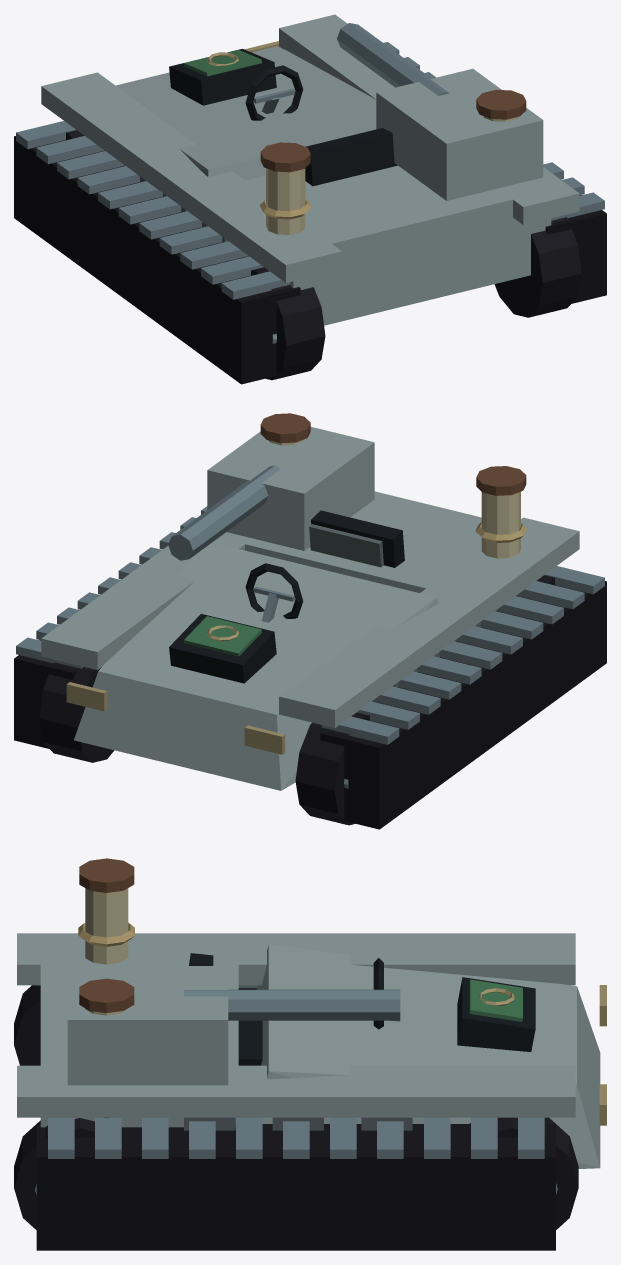
The model's file is kart.glb.
3 renders of one model, top to bottom at view 1: azimuth 30°, elevation 25°; view 2: azimuth 150°, elevation 25°; view 3: azimuth 270°, elevation 25°, orthographic. The views are drawn at different scales.
Visible parts, largest first — view 1: identity-tank-tank-armored-hull, identity-tank-tank-full-length-tracks, identity-tank-motif-scrolls, identity-tank-driver-cockpit, wheel-rear-right, identity-tank-motif-scanner, wheel-rear-left; view 2: identity-tank-tank-armored-hull, identity-tank-tank-full-length-tracks, identity-tank-driver-cockpit, identity-tank-motif-scrolls, identity-tank-motif-scanner, wheel-front-left, wheel-front-right; view 3: identity-tank-tank-armored-hull, identity-tank-tank-full-length-tracks, identity-tank-motif-scrolls, identity-tank-motif-scanner, wheel-front-right, wheel-rear-right, identity-tank-driver-cockpit, wheel-rear-left.
Boxes of the visible parts, <box> form: identity-tank-tank-armored-hull: <box>41,14,579,325</box>; identity-tank-tank-full-length-tracks: <box>14,42,606,384</box>; identity-tank-motif-scrolls: <box>259,89,526,234</box>; identity-tank-driver-cockpit: <box>245,65,397,186</box>; wheel-rear-right: <box>494,217,581,317</box>; identity-tank-motif-scanner: <box>169,48,276,105</box>; wheel-rear-left: <box>251,267,325,380</box>; identity-tank-tank-armored-hull: <box>41,427,579,790</box>; identity-tank-tank-full-length-tracks: <box>14,506,606,829</box>; identity-tank-driver-cockpit: <box>245,510,404,622</box>; identity-tank-motif-scrolls: <box>260,413,526,558</box>; identity-tank-motif-scanner: <box>169,614,276,683</box>; wheel-front-left: <box>295,712,369,825</box>; wheel-front-right: <box>39,662,114,762</box>; identity-tank-tank-armored-hull: <box>17,933,606,1168</box>; identity-tank-tank-full-length-tracks: <box>36,985,555,1250</box>; identity-tank-motif-scrolls: <box>78,858,134,1118</box>; identity-tank-motif-scanner: <box>457,977,535,1051</box>; wheel-front-right: <box>469,1117,578,1229</box>; wheel-rear-right: <box>14,1118,94,1229</box>; identity-tank-driver-cockpit: <box>189,953,399,1065</box>; wheel-rear-left: <box>14,985,40,1065</box>.
Size of the model in its own units: 2.38 by 1.26 by 2.88.
